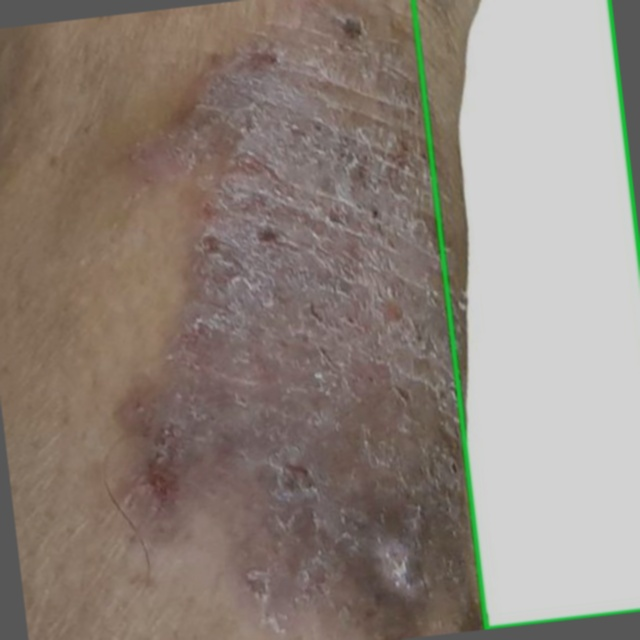Eczema: (414, 0, 639, 628)
